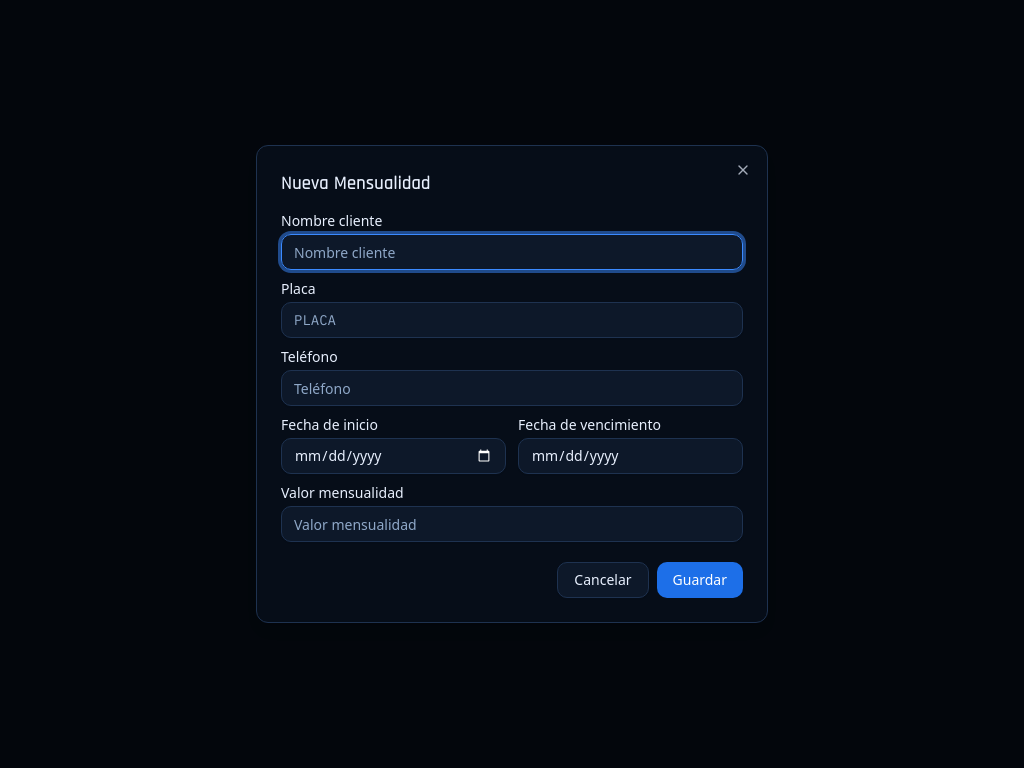
no guarda sin cliente ni placa y muestra el error de cada campo
Step 1. Click the button "Guardar" → (700, 580), box top-left (656, 562), bottom-right (743, 598)
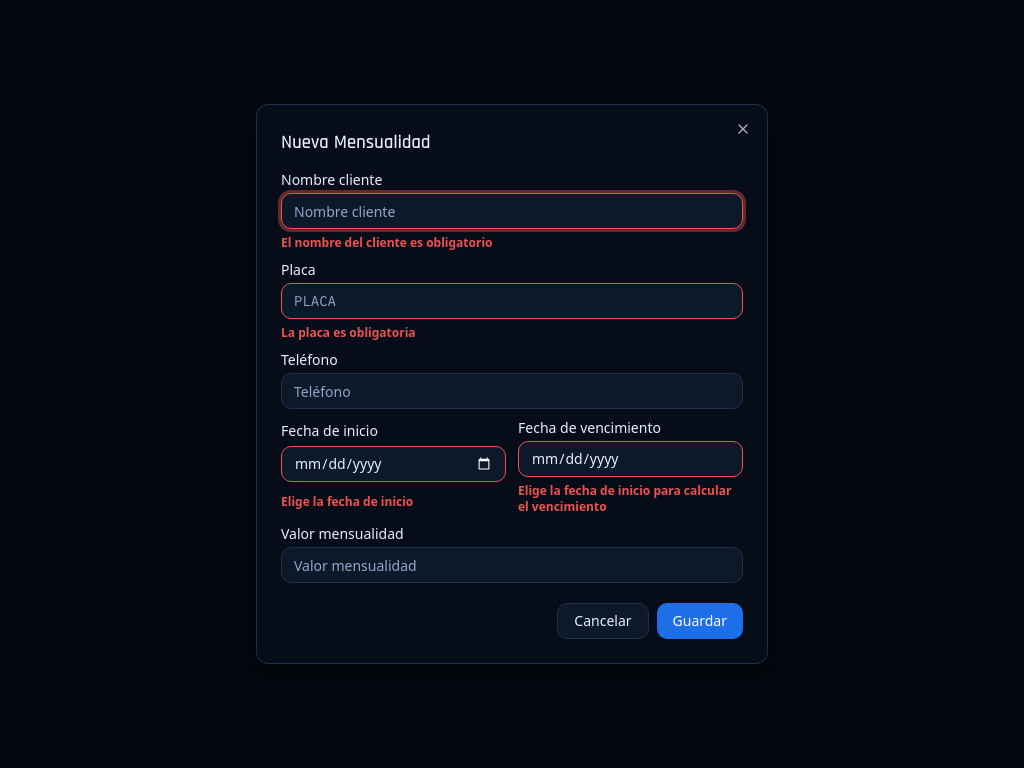
expect the text "El nombre del cliente es obligatorio" is shown: met, box top-left (281, 234), bottom-right (492, 251)
expect the text "La placa es obligatoria" is shown: met, box top-left (281, 324), bottom-right (416, 341)
expect the text "Elige la fecha de inicio" is shown: met, box top-left (281, 493), bottom-right (413, 510)
